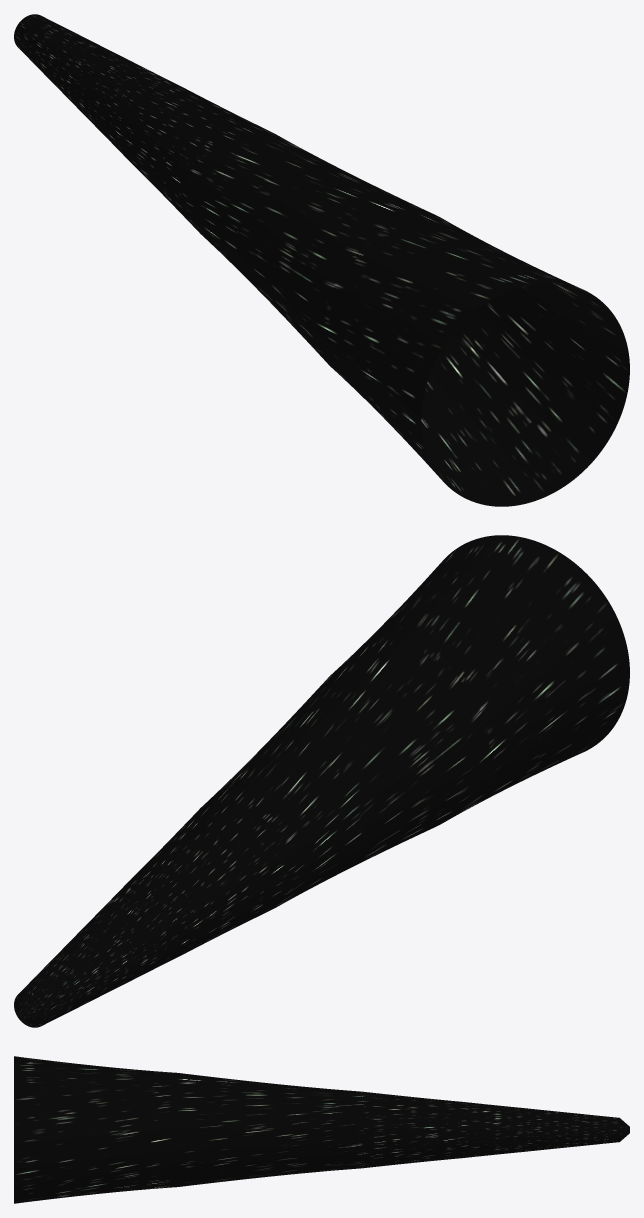
File: tunnel.glb
The picture shows the model from 3 angles, top to bottom: view 1: azimuth 30°, elevation 25°; view 2: azimuth 150°, elevation 25°; view 3: azimuth 270°, elevation 25°; orthographic projection. The views are drawn at different scales.
Parts seen in each view (by area): view 1: Cylinder; view 2: Cylinder; view 3: Cylinder.
Boxes of the visible parts, box(x1,y1,x2,y2) form: Cylinder: box(14, 14, 629, 506); Cylinder: box(14, 535, 629, 1027); Cylinder: box(14, 1056, 629, 1203).
Size of the model in its own units: 2 by 2 by 8.35.
Materials: 1 (1 with a texture image).
